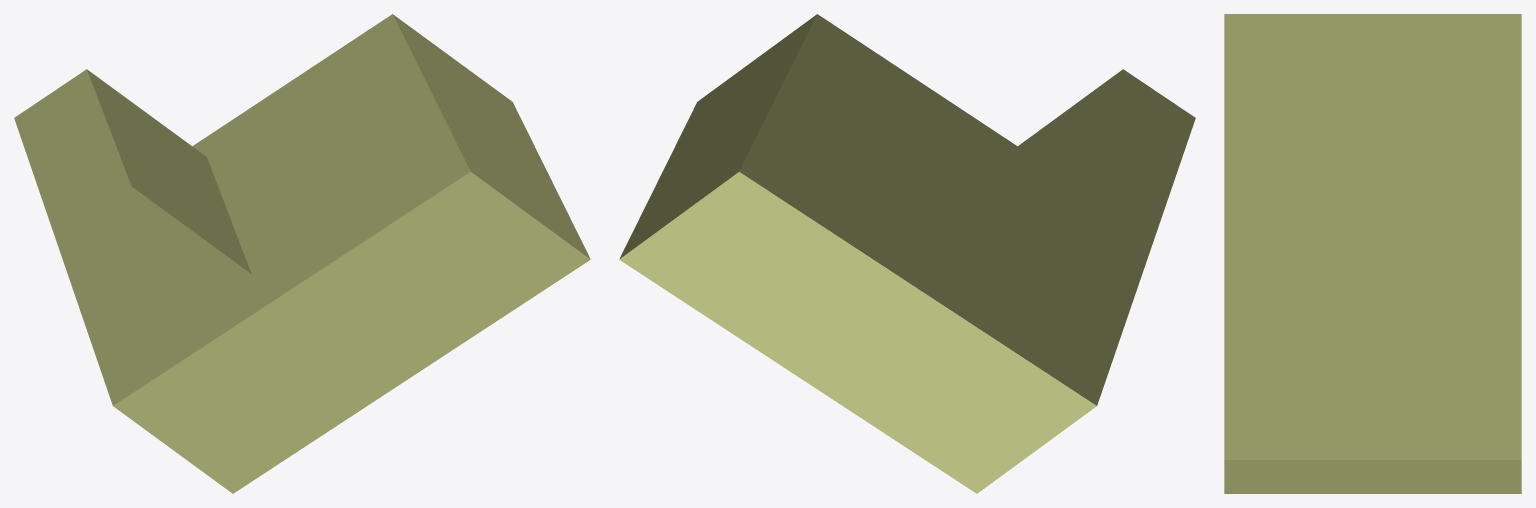
The picture shows the model from 3 angles, left to right: view 1: azimuth 30°, elevation 25°; view 2: azimuth 150°, elevation 25°; view 3: azimuth 270°, elevation 25°; orthographic projection. The views are drawn at different scales.
Visible parts, largest first — view 1: 0_1_0_2_1_3_1_3_2_2_3; view 2: 0_1_0_2_1_3_1_3_2_2_3; view 3: 0_1_0_2_1_3_1_3_2_2_3.
Boxes of the visible parts, left/top/right/bottom form: 0_1_0_2_1_3_1_3_2_2_3: left=14, top=14, right=590, bottom=493; 0_1_0_2_1_3_1_3_2_2_3: left=619, top=14, right=1195, bottom=493; 0_1_0_2_1_3_1_3_2_2_3: left=1224, top=14, right=1521, bottom=493.
Bounding box in the file's own units: 13.17 × 9.46 × 6.
